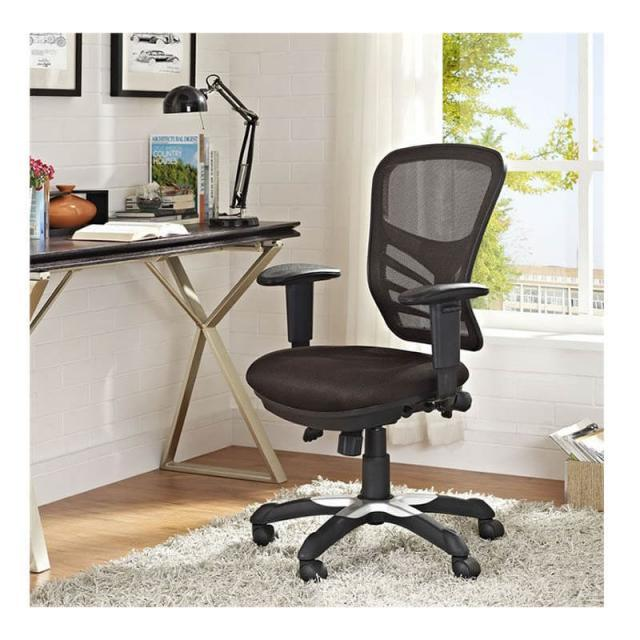chair: (223, 121, 538, 606)
